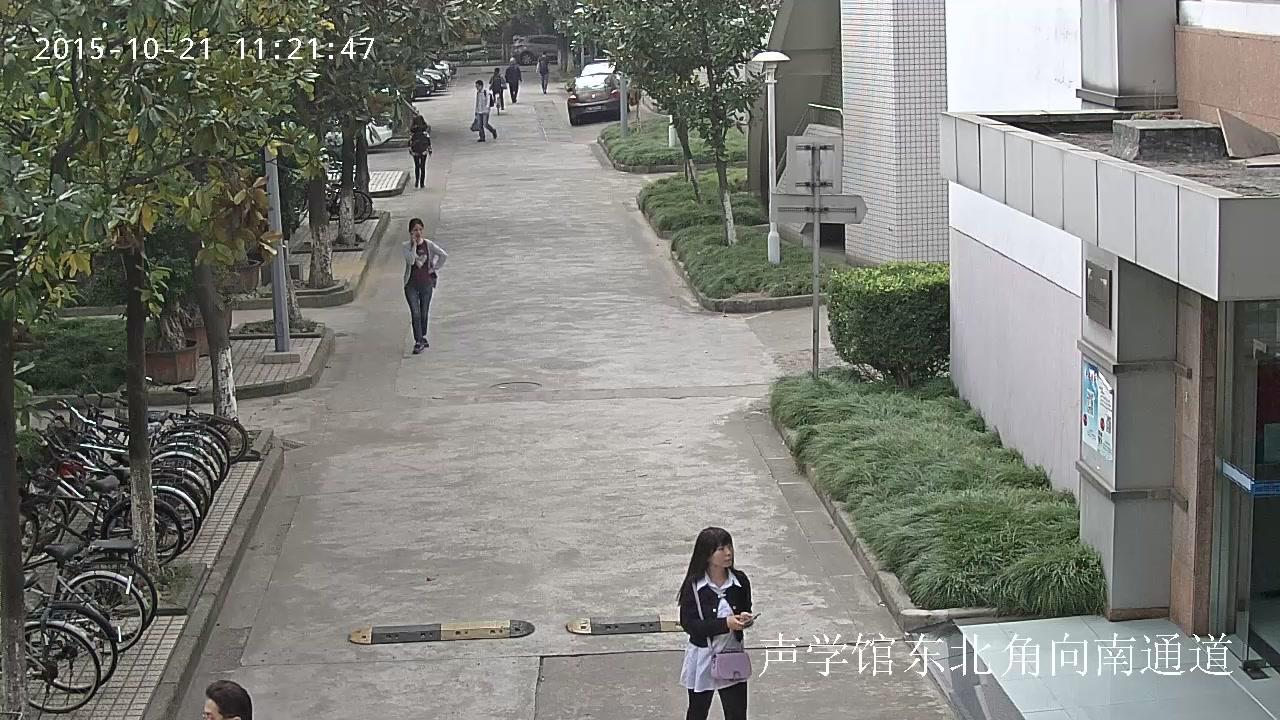face: (203, 697, 228, 720), (710, 544, 733, 567), (411, 223, 422, 239), (475, 83, 480, 90), (517, 64, 519, 67)
